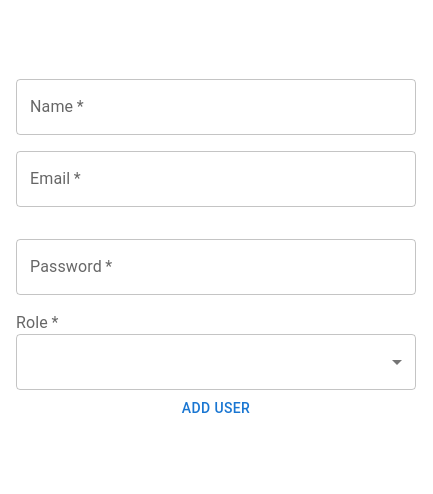
Test: AddUserFormLeicht › displays password error message for invalid password
Step 1. Type "invalid" into the field labelled "Password *" → (216, 267), box 16,239 -> 416,295
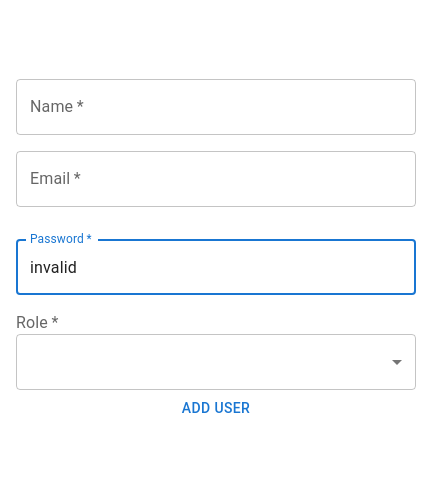
Step 2. Submit the form from the button "Add User", box 16,390 -> 416,427
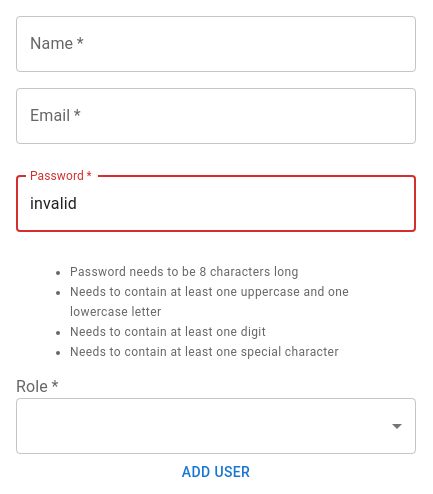
Now the list item "Password needs to be 8 characters long" is shown, box 70,265 -> 299,279
